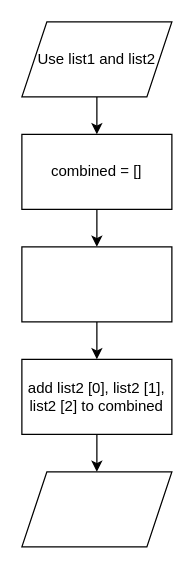
Image size: 194x569. Some labels were removed from this diagram. The shapes that lost their labels are listed below. From the top down, each one's centre as x and y in pixels, then its label:
the point at 96,284: add list1 [0], list1 [1], list1 [2] to combined
the point at 96,509: Return combined
